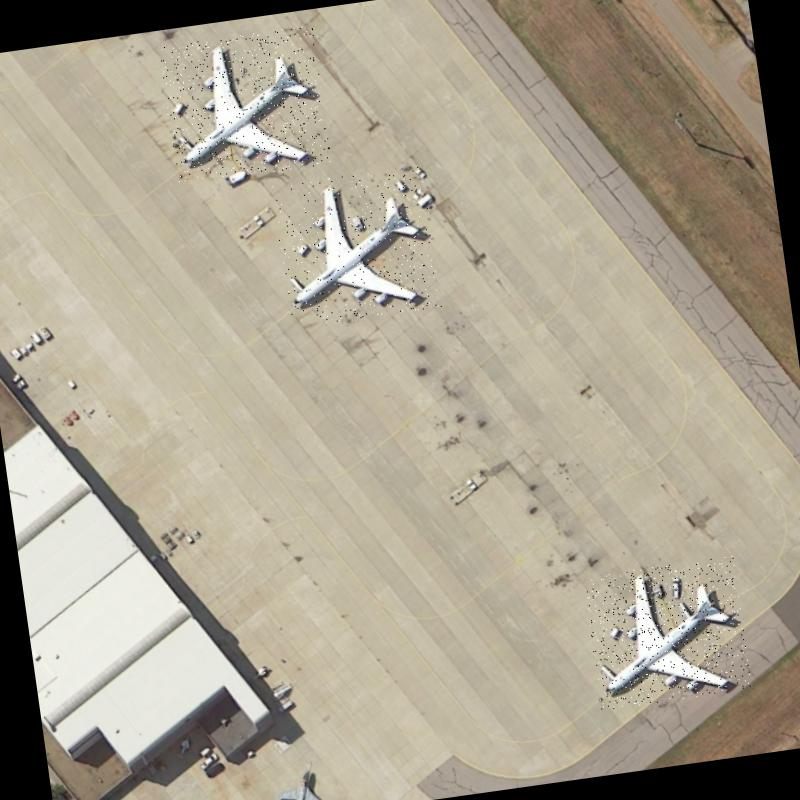A11: (157, 25, 332, 185), (271, 164, 441, 328), (582, 555, 752, 710)
